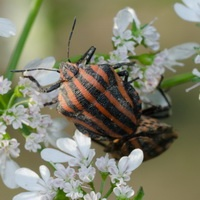insect: (41, 9, 176, 158)
